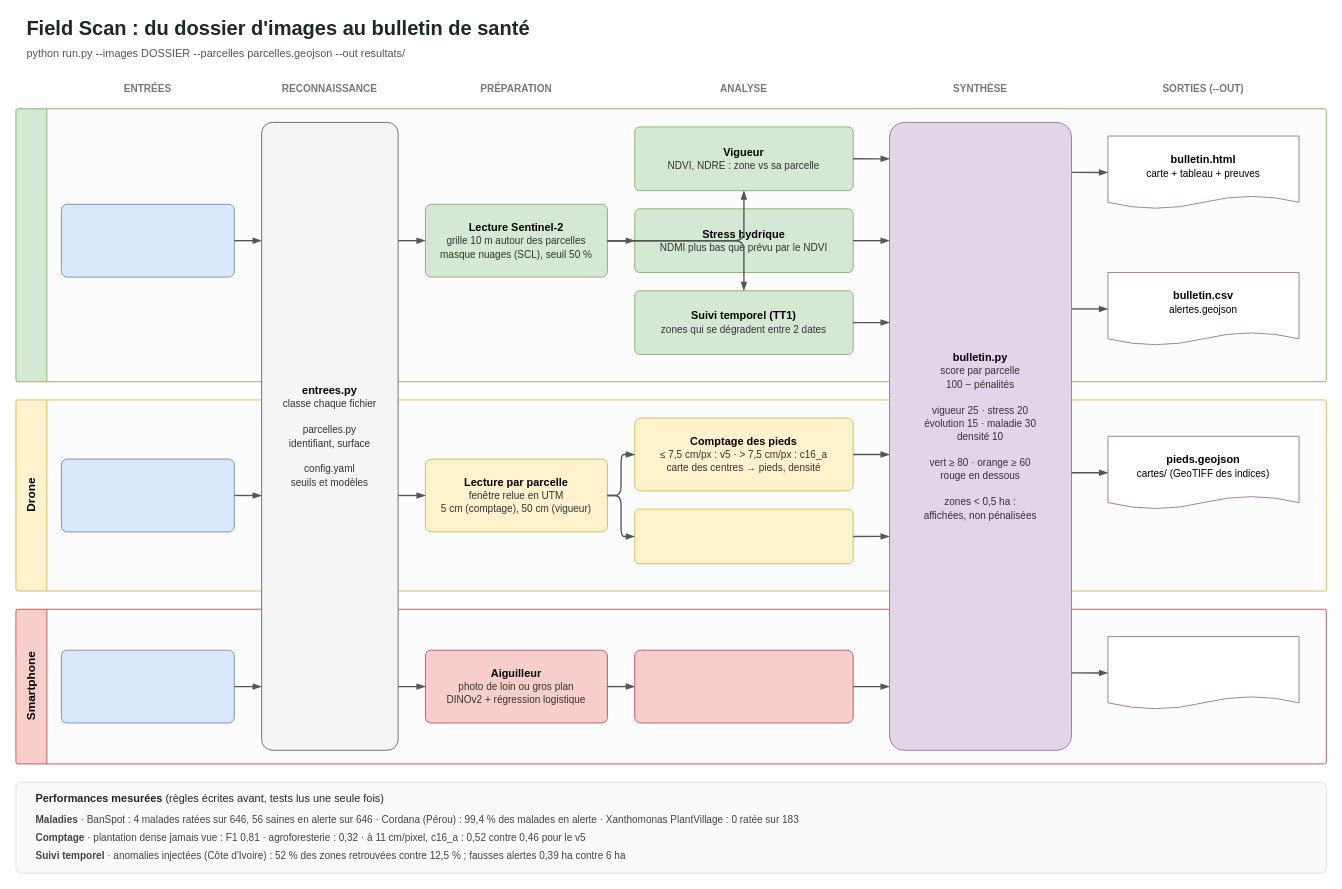
This 1342x889 diagram has some shape labels left out. Each missing label, with the box of its shape:
journal.json réglages appliqués, empreintes: (1107, 636, 1299, 709)
Maladies (F1_bornes) v10b + soupe v2/v8 + v2 saine, cercosporiose, fusariose…: (634, 649, 853, 723)
Ortho de drone GeoTIFF RGB ≤ 50 cm/pixel: (61, 458, 234, 532)
Photos de feuilles JPG / PNG GPS facultatif: (61, 649, 234, 723)
Satellite: (15, 108, 1326, 382)
Sentinel-2 L2A Copernicus, .SAFE ou B04.tiff 2 dates ou plus: (61, 203, 234, 277)
Vigueur drone ExG lissé sur 3 m: (634, 508, 853, 564)
